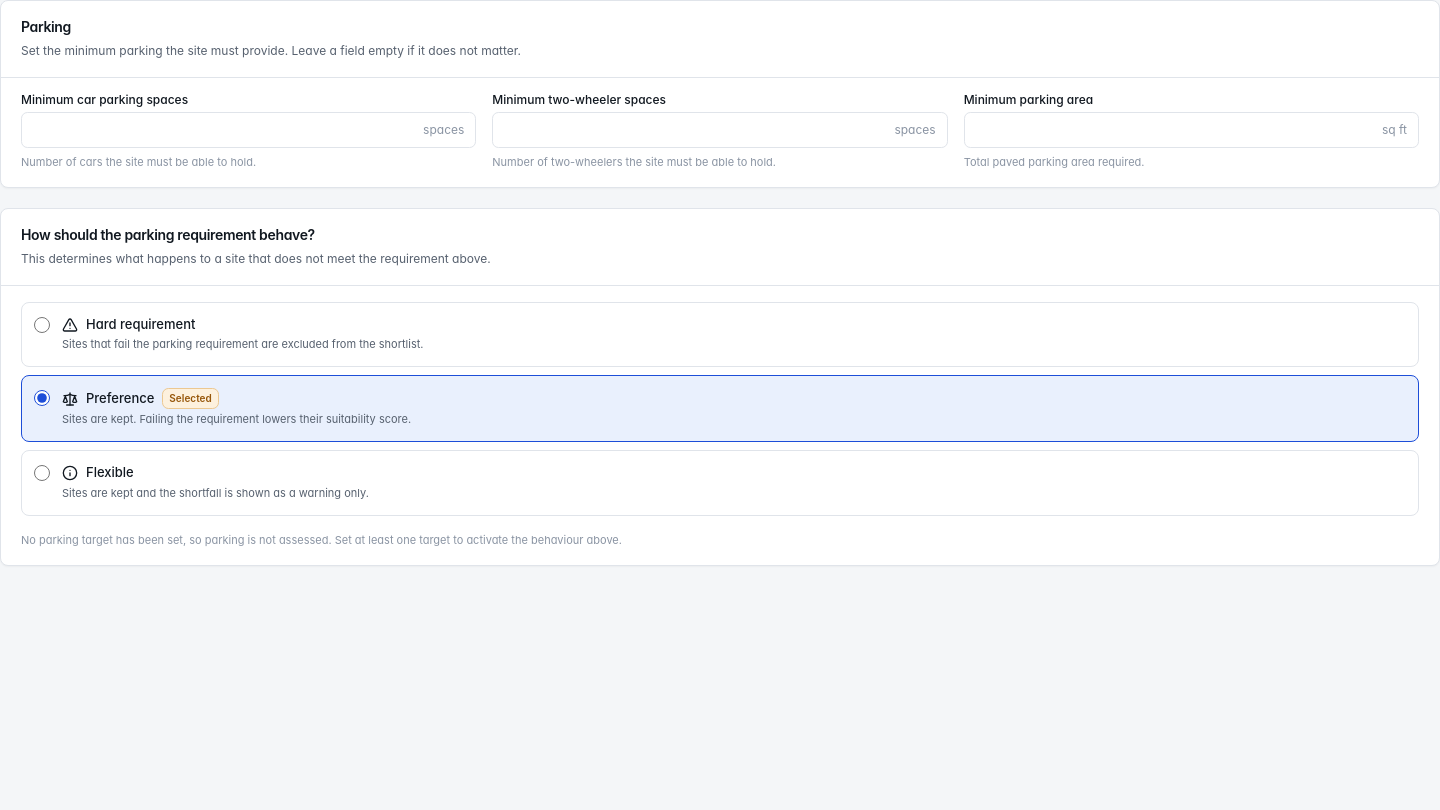
Test: StepParking › explains the consequence once a target is entered
In the number field labelled "Minimum car parking spaces": (249, 130) [21, 112, 476, 148], type "50"
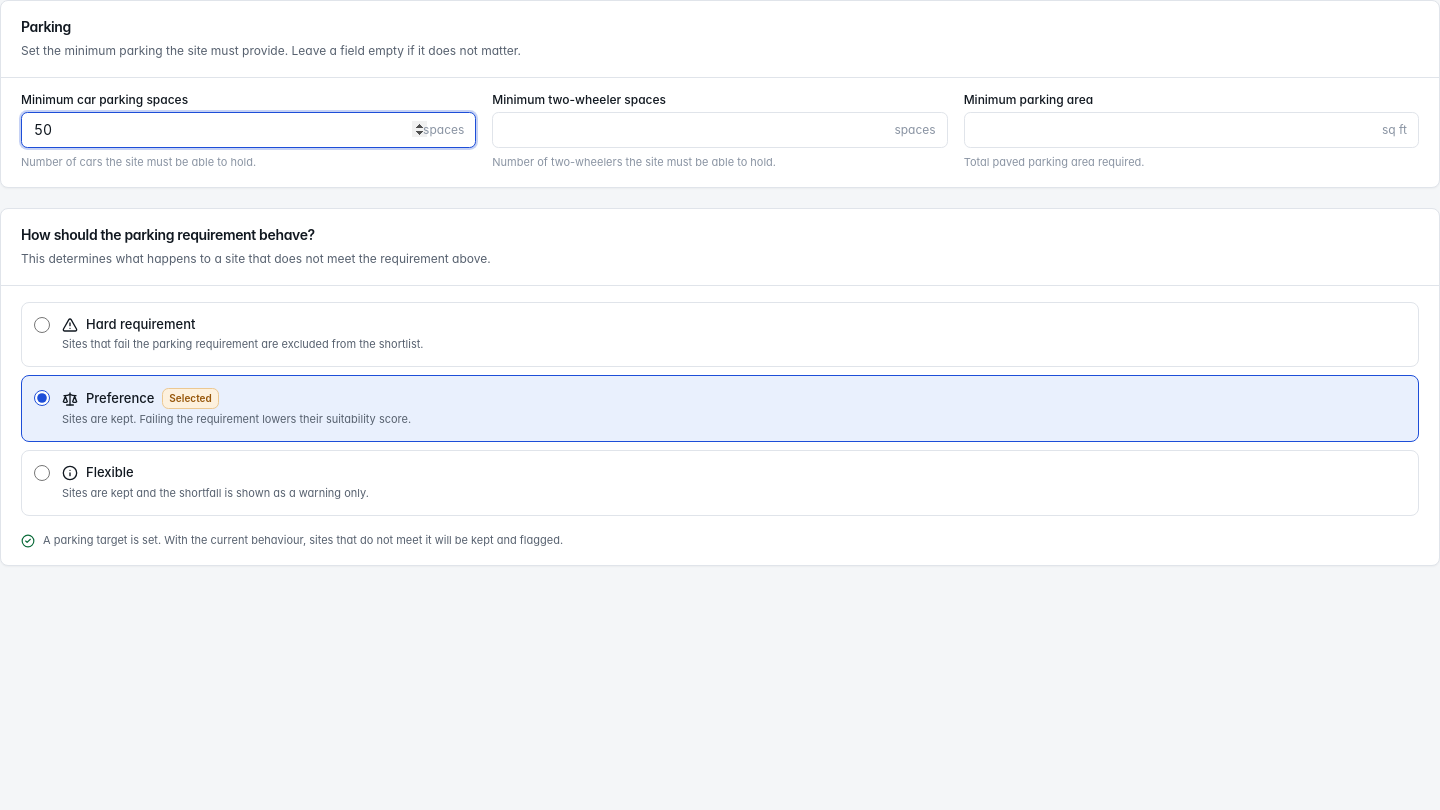
Check: the text "A parking target is set" is shown, box [43, 532, 471, 546]
